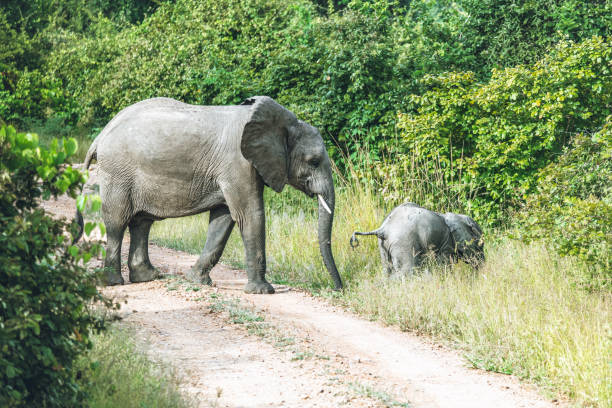africanelephant: (246, 102, 340, 229)
